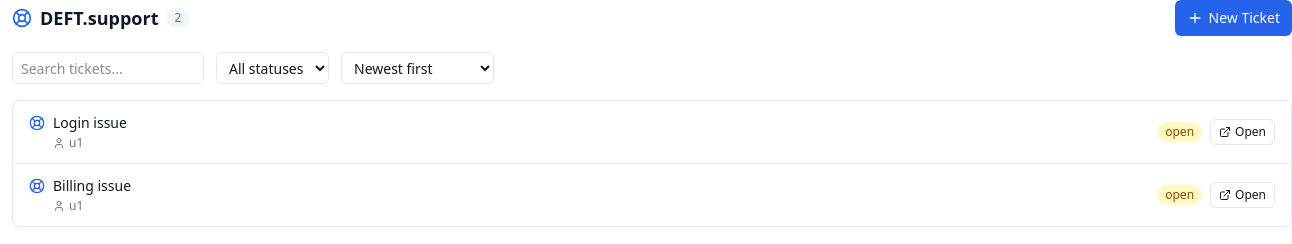
Scenario: SupportManagementView › filters ticket rows by search text
The image size is (1292, 244).
Check: the element with test id "ticket-row-t-a" is shown, box [13, 101, 1291, 164]
Type "login" into the search field with test id "tickets-search-input" at (108, 68), box [12, 52, 204, 84]
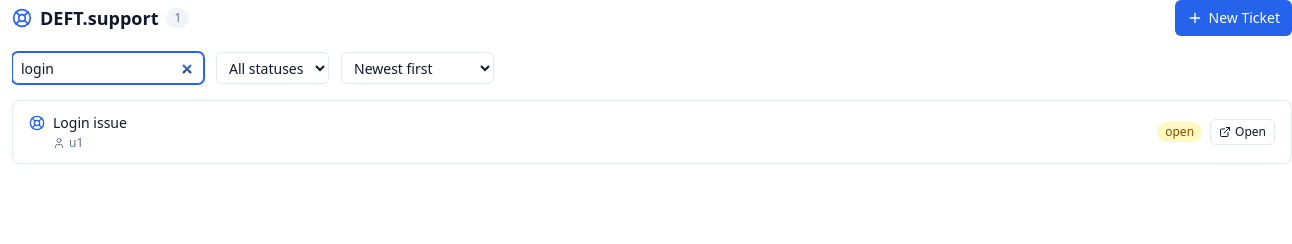
Check: the element with test id "ticket-row-t-a" is shown, box [13, 101, 1291, 163]
Check: the element with test id "ticket-row-t-b" is gone
